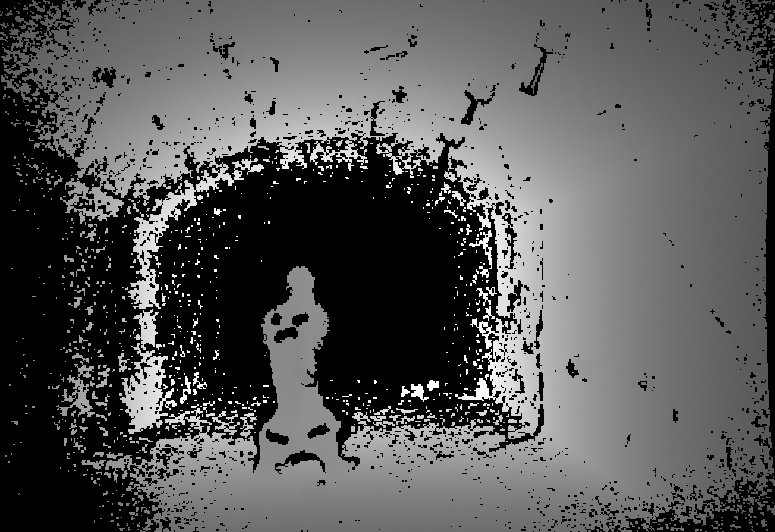person: (254, 265, 356, 476)
